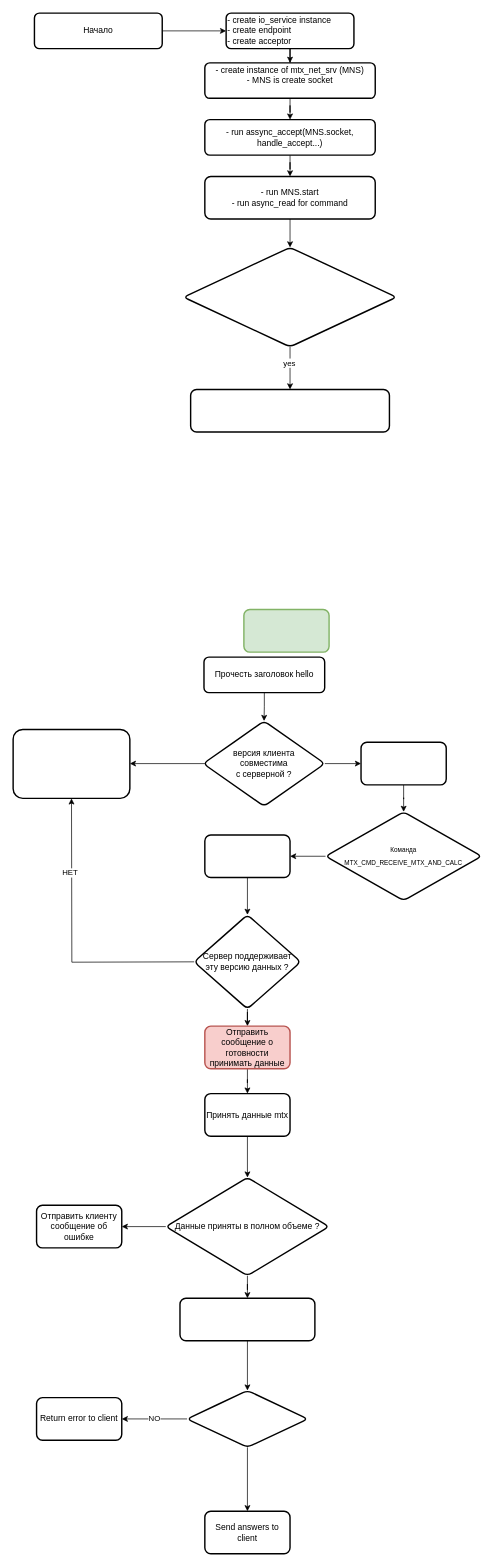
Image size: 494x1566. Some labels were removed from this diagram. The shapes that lost their labels are listed below. From the top down, each one's centre as x and y in pixels, then its label:
(289,296): command is " receive_data_and_calc "
(286,630): Передать обработку в новый поток
(71,763): -Отправить собщение о несовместимости версий - разорвать соединение
(403,763): Прочитать команду
(247,856): Прочитать версию данных MTX
(247,1319): Calculate matrices
(247,1418): Calculate done without error ?
